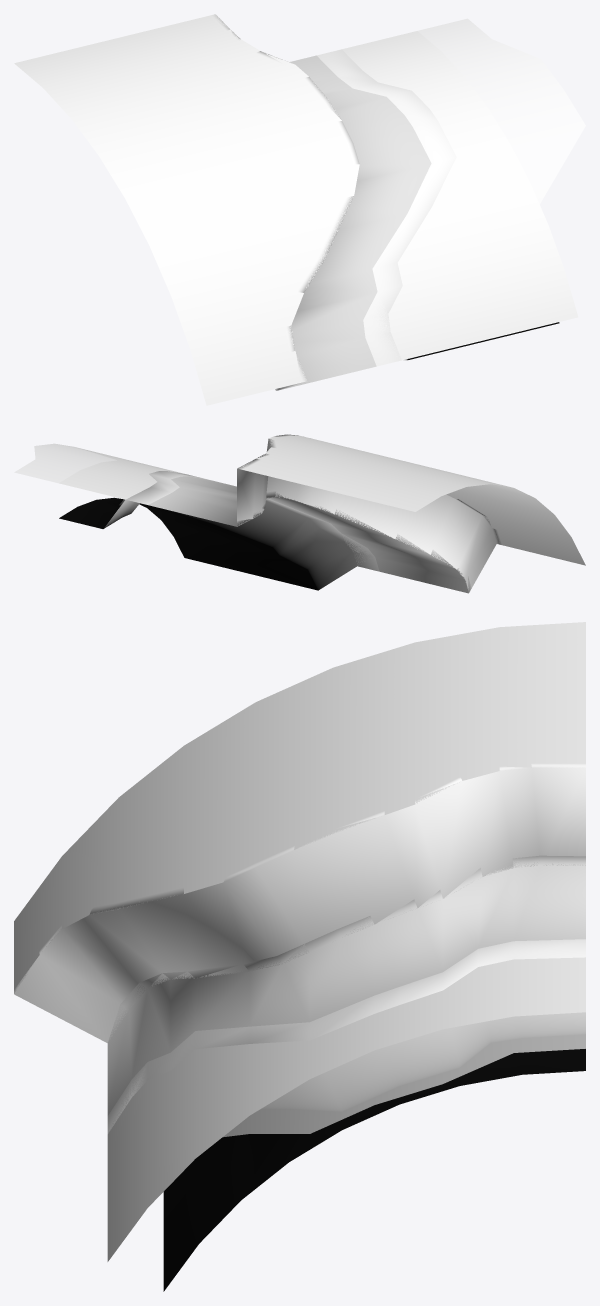
File: grd_Mse_e_1.dae
The picture shows the model from 3 angles, top to bottom: view 1: azimuth 30°, elevation 25°; view 2: azimuth 150°, elevation 25°; view 3: azimuth 270°, elevation 25°; orthographic projection. The views are drawn at different scales.
Parts seen in each view (by area): view 1: grd_Mse_e_1; view 2: grd_Mse_e_1; view 3: grd_Mse_e_1.
Part boxes in pixels (x1,y1,x2,y2): grd_Mse_e_1: (14, 14, 585, 405); grd_Mse_e_1: (14, 434, 585, 593); grd_Mse_e_1: (14, 622, 585, 1291).
Size of the model in its own units: 608 by 308 by 423.
6 materials, 1 textured.
